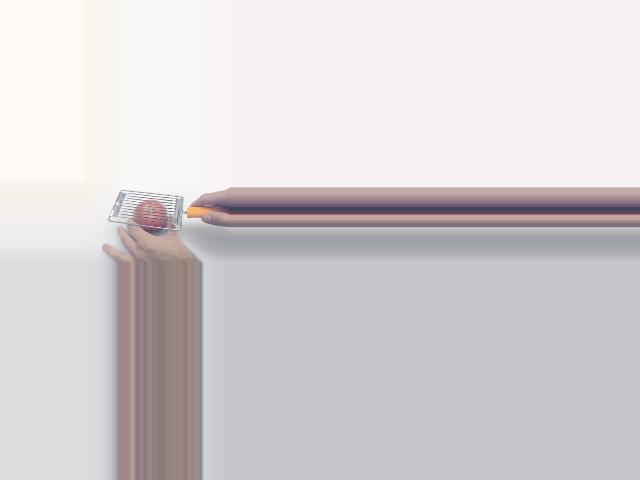tomato: (134, 200, 168, 232)
